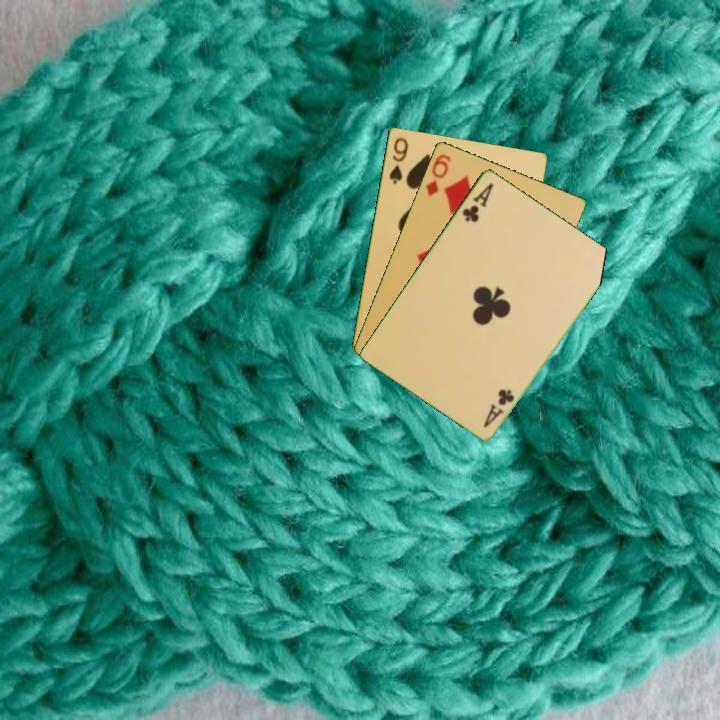6d: (422, 150, 454, 199)
9s: (385, 134, 411, 187)
Ac: (458, 179, 496, 225), (479, 385, 517, 430)
